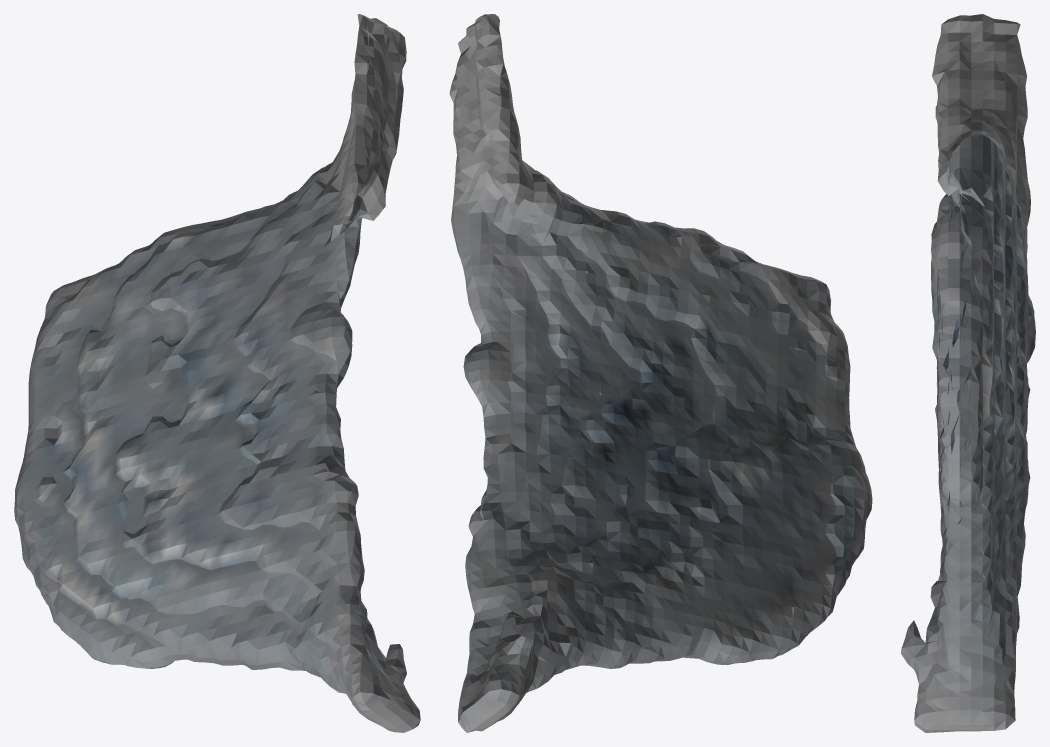
The model's file is kKLpmOxZspGNMmQFbaYJ-draft.glb.
The picture shows the model from 3 angles, left to right: view 1: azimuth 30°, elevation 25°; view 2: azimuth 150°, elevation 25°; view 3: azimuth 270°, elevation 25°; orthographic projection. The views are drawn at different scales.
Visible parts, largest first — view 1: world; view 2: world; view 3: world.
Part boxes in pixels (x1,y1,x2,y2): world: (14,14,420,732); world: (449,14,872,732); world: (901,14,1035,732).
Bounding box in the file's own units: 0.5543 × 0.9455 × 0.1613.
